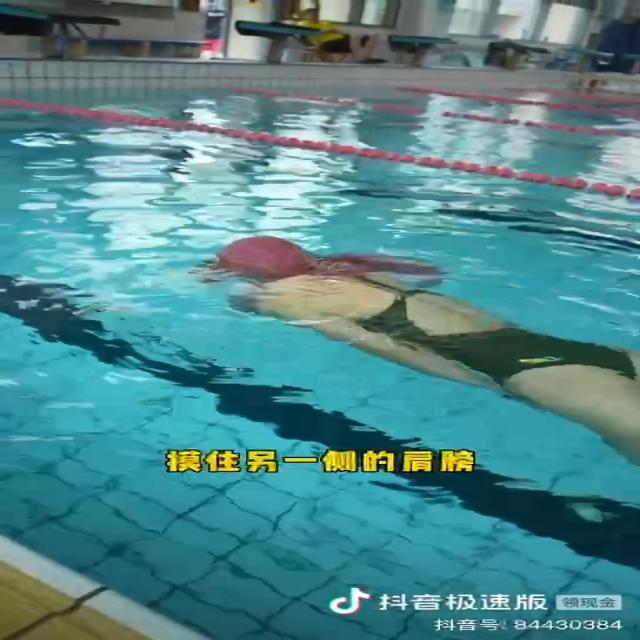Drowning: (193, 232, 640, 465)
